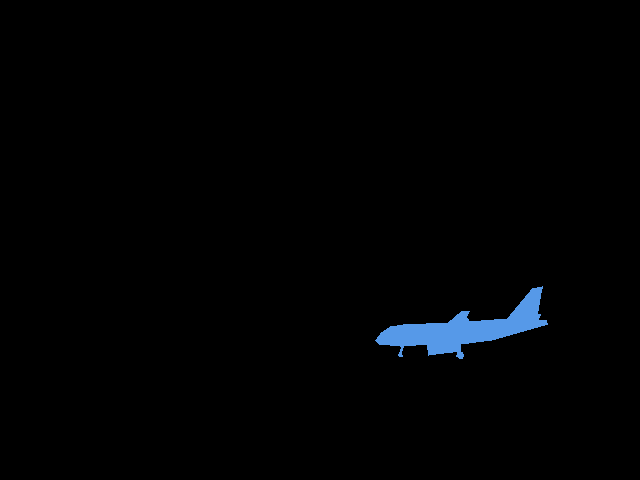Airplane: (375, 286, 548, 358)
